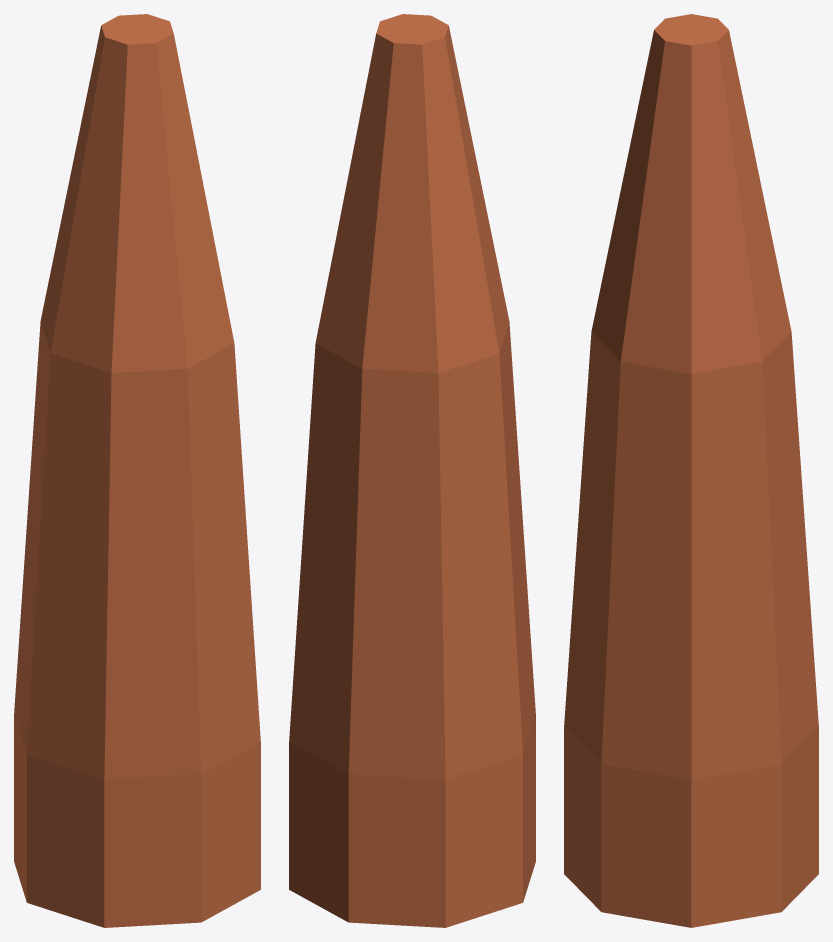
Rendered from BLT-308fbx.fbx.
3 views of the same model, side by side, from view 1: azimuth 30°, elevation 25°; view 2: azimuth 150°, elevation 25°; view 3: azimuth 270°, elevation 25° (orthographic).
Parts seen in each view (by area): view 1: Cylinder.010; view 2: Cylinder.010; view 3: Cylinder.010.
Part boxes in pixels (x1=…): Cylinder.010: x1=14, y1=14, x2=260, y2=927; Cylinder.010: x1=289, y1=14, x2=535, y2=927; Cylinder.010: x1=564, y1=14, x2=818, y2=927.
Size of the model in its own units: 19.09 by 69.82 by 19.09.
